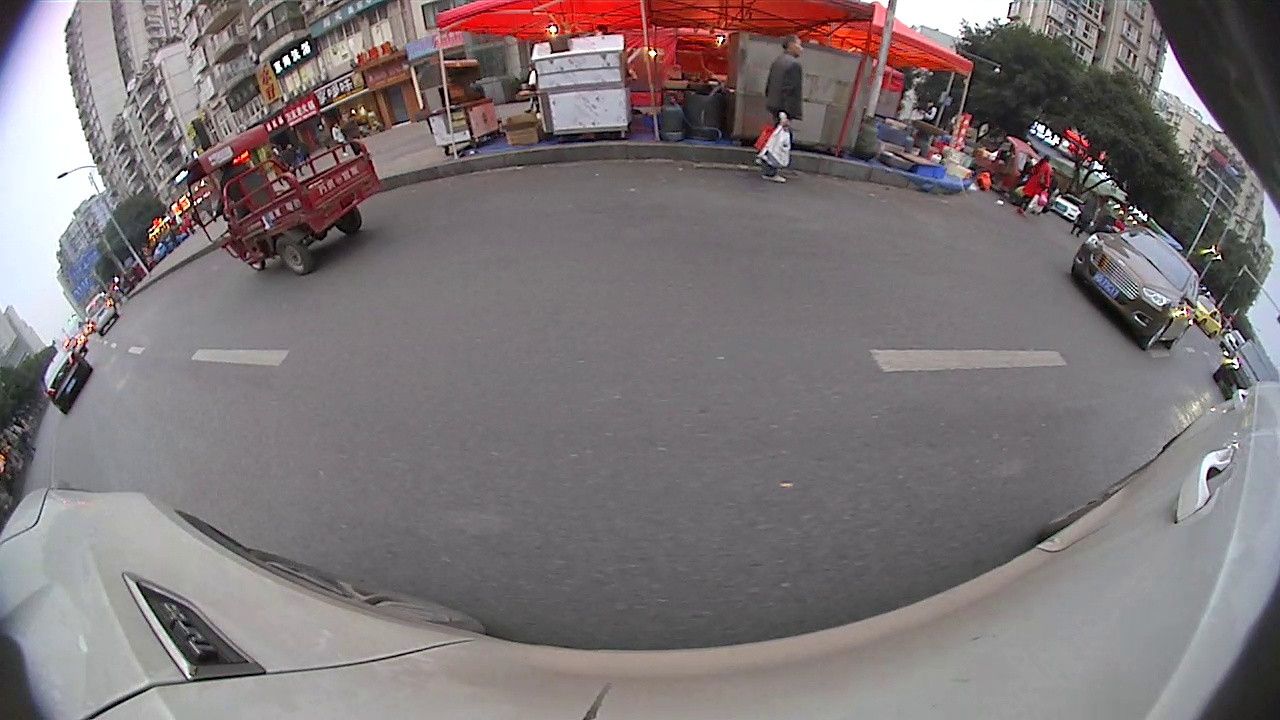car: (182, 123, 381, 278), (1070, 220, 1205, 352), (40, 345, 97, 417), (1211, 343, 1271, 394), (83, 289, 118, 344), (1194, 292, 1223, 340)
front: (1140, 315, 1173, 354)
person: (761, 32, 808, 184), (1026, 147, 1054, 219)
rear: (274, 236, 315, 279)
